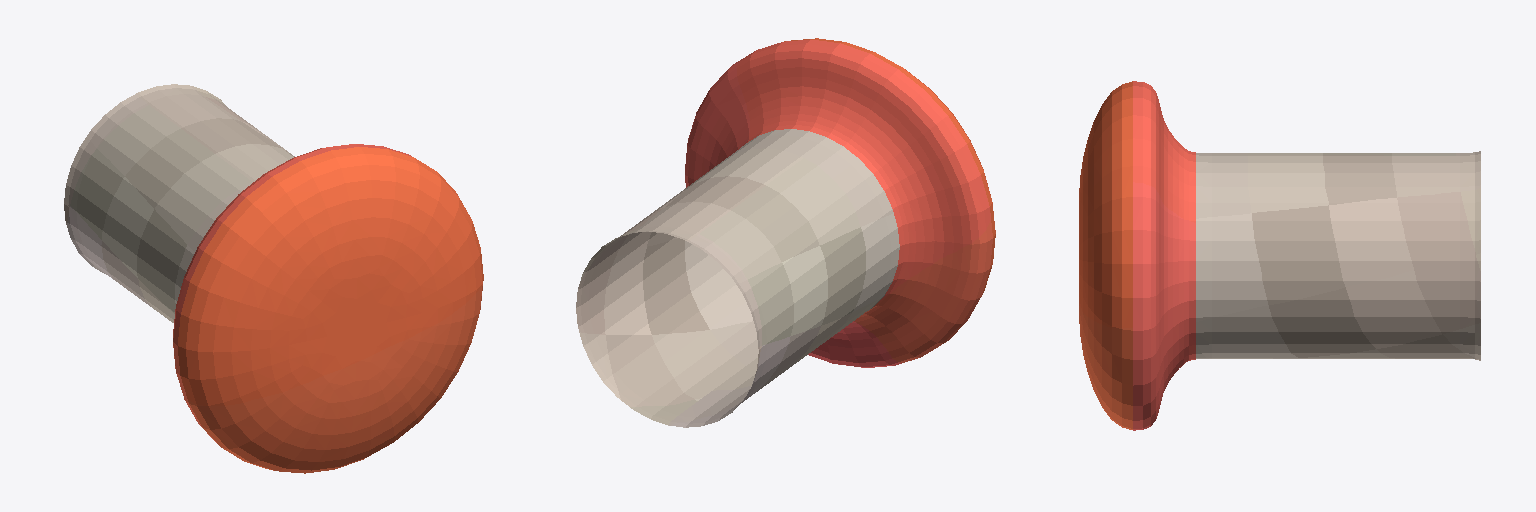
3 views of the same model, side by side, from view 1: azimuth 30°, elevation 25°; view 2: azimuth 150°, elevation 25°; view 3: azimuth 270°, elevation 25° (orthographic).
Parts seen in each view (by area): view 1: palanca; view 2: palanca; view 3: palanca.
Part boxes in pixels (x1,y1,x2,y2): palanca: (64, 84, 483, 473); palanca: (576, 38, 995, 427); palanca: (1079, 81, 1480, 430).
Bounding box in the file's own units: 9.42 × 9.42 × 10.83.
Materials: 1 (1 with a texture image).